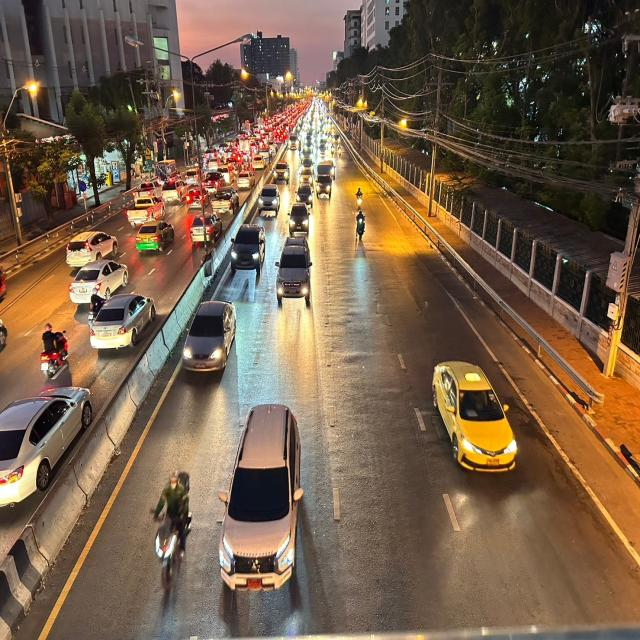bike: (147, 453, 197, 598)
car: (214, 390, 308, 595)
